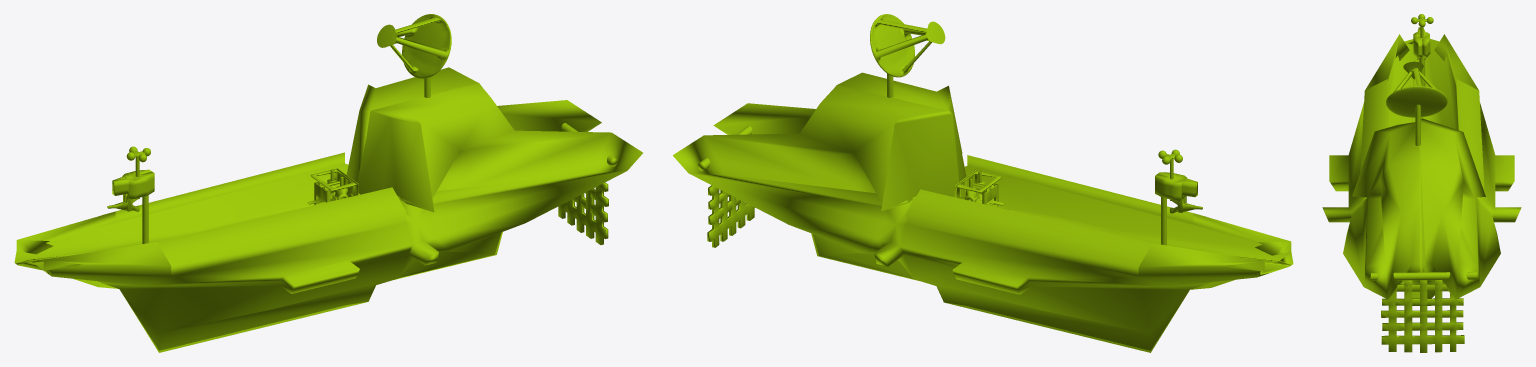
Rendered from Ship_Highlighted.fbx.
3 renders of one model, left to right at view 1: azimuth 30°, elevation 25°; view 2: azimuth 150°, elevation 25°; view 3: azimuth 270°, elevation 25°, orthographic. The views are drawn at different scales.
Visible parts, largest first — view 1: Ship_0010:pCube6, Satellite_Disk_GPS, fishing_net_0005:pCube2, group4, engine_0007:pCube6; view 2: Ship_0010:pCube6, Satellite_Disk_GPS, fishing_net_0005:pCube2, group4, engine_0007:pCube6; view 3: Ship_0010:pCube6, fishing_net_0005:pCube2, Satellite_Disk_GPS, group4.
Boxes of the visible parts, <box> form: Ship_0010:pCube6: <box>14,67,642,352</box>; Satellite_Disk_GPS: <box>377,14,451,97</box>; fishing_net_0005:pCube2: <box>558,123,617,244</box>; group4: <box>107,146,154,243</box>; engine_0007:pCube6: <box>307,168,358,205</box>; Ship_0010:pCube6: <box>673,72,1293,352</box>; Satellite_Disk_GPS: <box>870,14,945,97</box>; fishing_net_0005:pCube2: <box>697,125,754,247</box>; group4: <box>1155,149,1202,245</box>; engine_0007:pCube6: <box>954,170,1009,209</box>; Ship_0010:pCube6: <box>1322,34,1521,299</box>; fishing_net_0005:pCube2: <box>1370,271,1477,352</box>; Satellite_Disk_GPS: <box>1386,61,1447,145</box>; group4: <box>1411,14,1433,86</box>.
Size of the model in its own units: 35.28 by 15.3 by 12.15.
